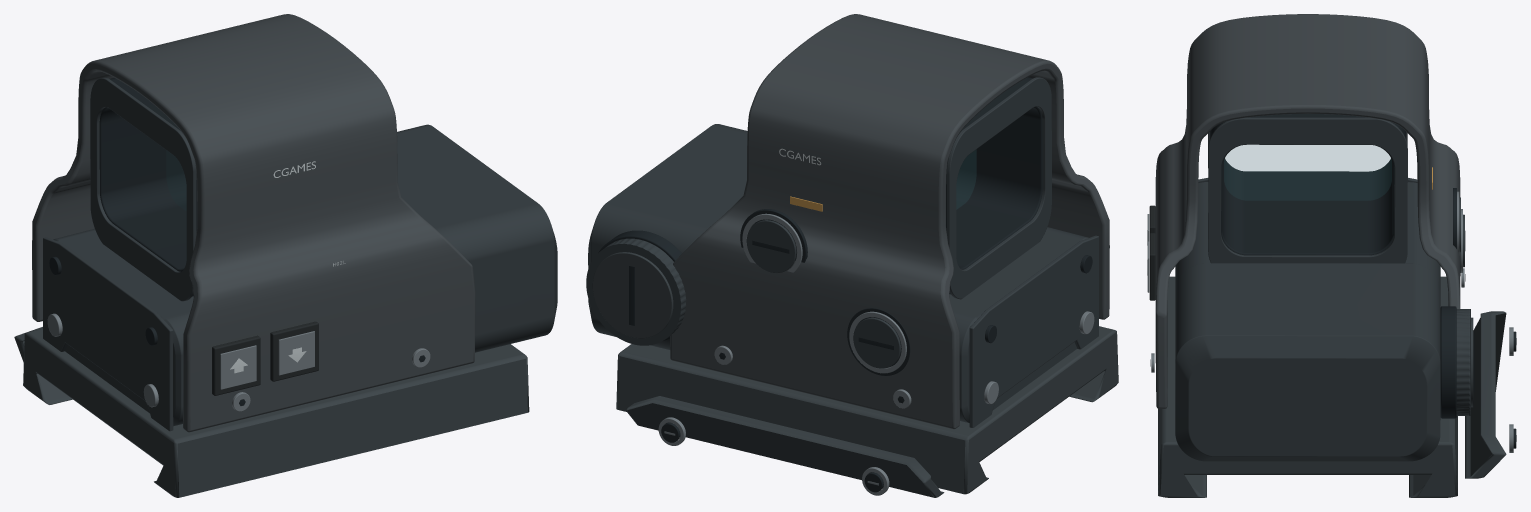
File: H02_long_X50_Rail.fbx
The picture shows the model from 3 angles, left to right: view 1: azimuth 30°, elevation 25°; view 2: azimuth 150°, elevation 25°; view 3: azimuth 270°, elevation 25°; orthographic projection. The views are drawn at different scales.
Parts seen in each view (by area): view 1: 01 open protective U hood, 04 undercut adapter bridge, 02 rounded forward casing, 02 rear visible face plate, 03 inner window structural frame, 03 window rim rear, 05 left button face.001, 05 left button gasket.001, 05 left button face, 05 left button gasket, 03 transparent visual pane; view 2: 01 open protective U hood, 04 undercut adapter bridge, 02 rounded forward casing, 02 rear visible face plate, 03 inner window structural frame, 04 independent right side strip, 03 window rim rear, 05 front cap center, 05 front cap fine grip, 05 right inset disk, 05 right inset disk.001, 05 right satin disk edge.001 (+5 smaller); view 3: 02 rounded forward casing, 01 open protective U hood, 03 inner window structural frame, 03 window rim front, 04 undercut adapter bridge, 03 transparent visual pane, 04 independent right side strip, 05 front side cap seat, 05 front cap fine grip, 05 left button gasket.
Boxes of the visible parts, x1,y1,x2,y2 form: 01 open protective U hood: (32, 14, 475, 432); 04 undercut adapter bridge: (23, 328, 529, 497); 02 rounded forward casing: (53, 124, 557, 426); 02 rear visible face plate: (43, 237, 173, 431); 03 inner window structural frame: (99, 77, 197, 296); 03 window rim rear: (90, 77, 196, 301); 05 left button face.001: (220, 345, 256, 389); 05 left button gasket.001: (212, 335, 260, 395); 05 left button face: (278, 331, 314, 375); 05 left button gasket: (270, 321, 318, 381); 03 transparent visual pane: (166, 151, 186, 210); 01 open protective U hood: (670, 14, 1109, 429); 04 undercut adapter bridge: (616, 326, 1118, 494); 02 rounded forward casing: (588, 124, 1088, 422); 02 rear visible face plate: (969, 235, 1098, 427); 03 inner window structural frame: (946, 77, 1042, 294); 04 independent right side strip: (626, 396, 944, 497); 03 window rim rear: (946, 77, 1051, 299); 05 front cap center: (592, 252, 673, 338); 05 front cap fine grip: (586, 238, 686, 345); 05 right inset disk: (746, 220, 796, 273); 05 right inset disk.001: (853, 317, 900, 368); 05 right satin disk edge.001: (849, 311, 906, 373); 02 rounded forward casing: (1175, 182, 1440, 461); 01 open protective U hood: (1155, 14, 1460, 408); 03 inner window structural frame: (1210, 114, 1405, 255); 03 window rim front: (1208, 117, 1407, 263); 04 undercut adapter bridge: (1158, 276, 1457, 497); 03 transparent visual pane: (1224, 145, 1391, 200); 04 independent right side strip: (1465, 311, 1506, 478); 05 front side cap seat: (1440, 306, 1456, 418); 05 front cap fine grip: (1456, 309, 1470, 415); 05 left button gasket: (1149, 233, 1155, 300).
Size of the model in its own units: 9.83 by 8.25 by 8.18.
